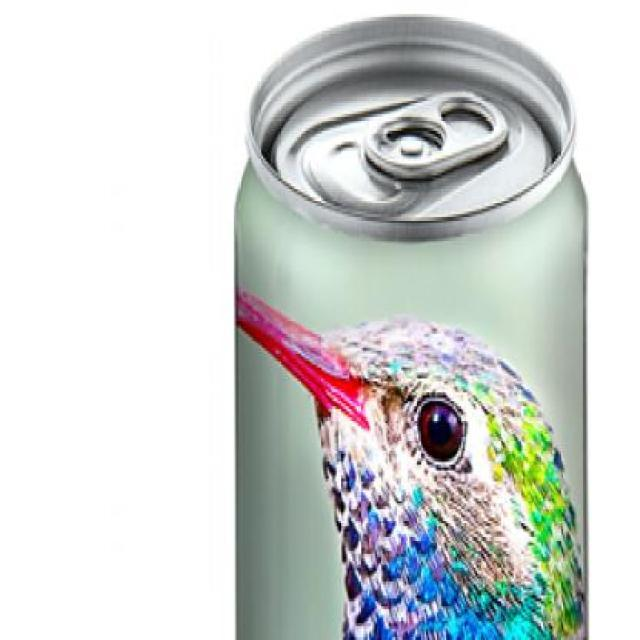can: (235, 8, 588, 640)
